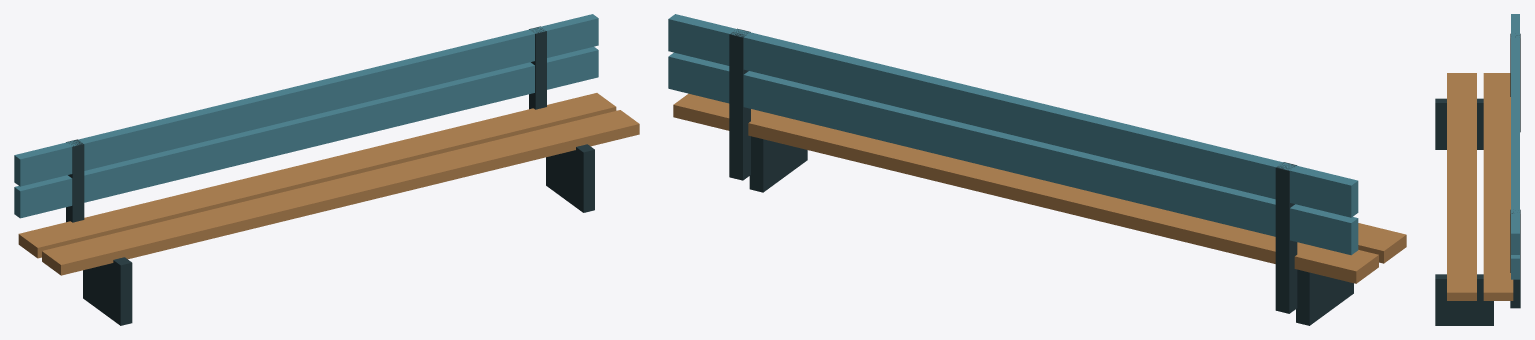
Rendered from bench.glb.
3 renders of one model, left to right at view 1: azimuth 30°, elevation 25°; view 2: azimuth 150°, elevation 25°; view 3: azimuth 270°, elevation 25°, orthographic. The views are drawn at different scales.
Parts seen in each view (by area): view 1: backrest, seat, legs; view 2: backrest, seat, legs; view 3: seat, legs, backrest.
Boxes of the visible parts, <box> form: backrest: <box>14,14,598,218</box>; seat: <box>18,93,639,275</box>; legs: <box>66,26,594,325</box>; backrest: <box>668,14,1358,255</box>; seat: <box>673,93,1406,283</box>; legs: <box>729,28,1353,325</box>; seat: <box>1447,73,1513,300</box>; legs: <box>1435,33,1520,325</box>; backrest: <box>1511,14,1519,279</box>.
Size of the model in its own units: 4 by 0.95 by 0.655.
Materials: 3 (3 with a texture image).
